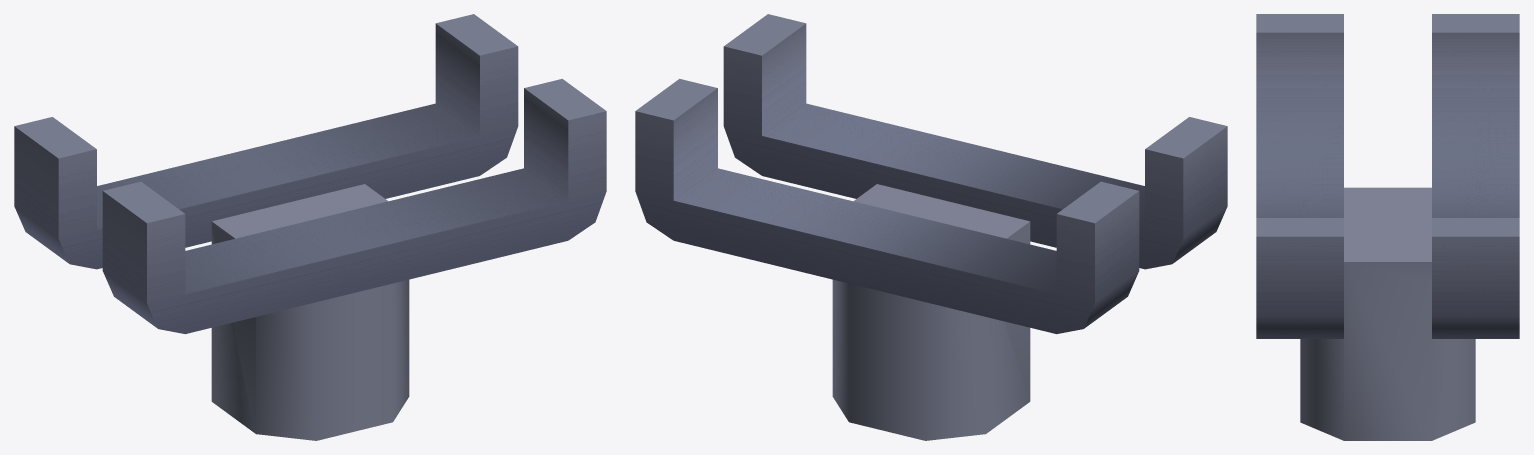
Rendered from support-single-top-double.glb.
3 views of the same model, side by side, from view 1: azimuth 30°, elevation 25°; view 2: azimuth 150°, elevation 25°; view 3: azimuth 270°, elevation 25° (orthographic).
Visible parts, largest first — view 1: support-single-top-double; view 2: support-single-top-double; view 3: support-single-top-double.
Part boxes in pixels (<box>): support-single-top-double: <box>14,14,606,440</box>; support-single-top-double: <box>635,14,1227,440</box>; support-single-top-double: <box>1256,14,1519,440</box>.
Bounding box in the file's own units: 1.2 × 0.7 × 0.6.
Materials: 1 (1 with a texture image).
